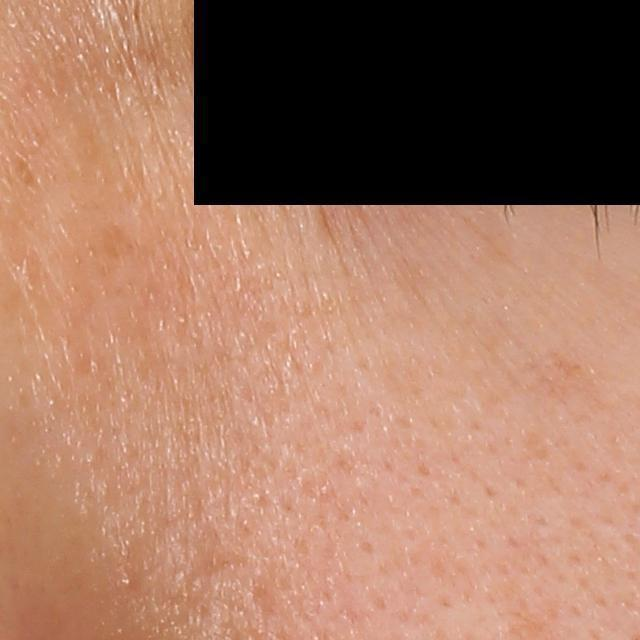comedo: (120, 569, 140, 590)
